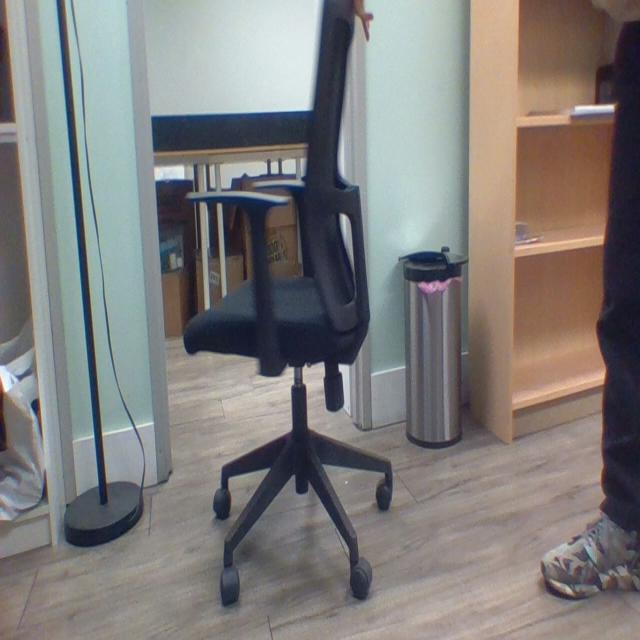black-chair: (185, 3, 400, 613)
